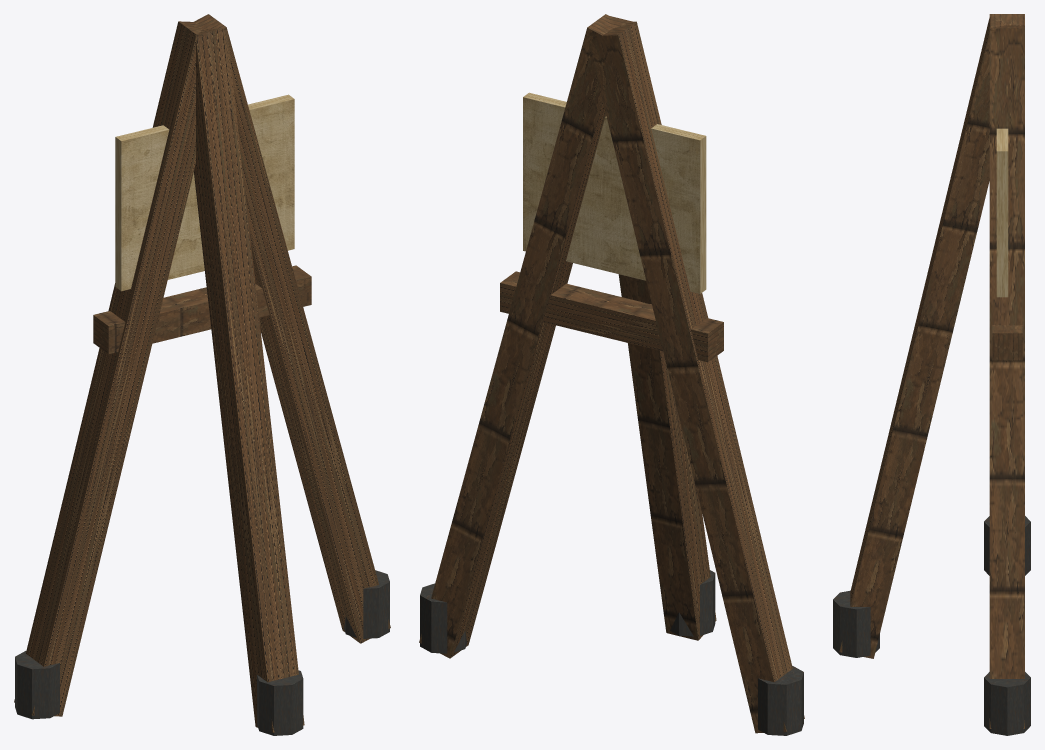
Rendered from PRP_SIGNAL_FRAME_001.obj.
3 renders of one model, left to right at view 1: azimuth 30°, elevation 25°; view 2: azimuth 150°, elevation 25°; view 3: azimuth 270°, elevation 25°, orthographic. The views are drawn at different scales.
Visible parts, largest first — view 1: RearBrace, LeftUpright, RightUpright, SignalPanel, GroundAnchor, ReachableCrossbar; view 2: LeftUpright, RightUpright, SignalPanel, RearBrace, ReachableCrossbar, GroundAnchor; view 3: RearBrace, RightUpright, GroundAnchor, SignalPanel, ReachableCrossbar, LeftUpright.
Part boxes in pixels (x1,y1,x2,y2): RearBrace: (193, 28, 304, 732); LeftUpright: (14, 21, 203, 716); RightUpright: (194, 14, 390, 643); SignalPanel: (115, 94, 294, 291); GroundAnchor: (15, 570, 389, 735); ReachableCrossbar: (93, 265, 311, 354); LeftUpright: (587, 21, 804, 733); RightUpright: (419, 14, 614, 658); SignalPanel: (523, 92, 706, 293); RearBrace: (608, 15, 716, 640); ReachableCrossbar: (500, 271, 723, 362); GroundAnchor: (420, 570, 803, 735); RearBrace: (839, 16, 1006, 658); RightUpright: (989, 25, 1024, 728); GroundAnchor: (833, 516, 1030, 735); SignalPanel: (996, 128, 1008, 297); ReachableCrossbar: (992, 325, 1022, 360); LeftUpright: (989, 14, 1024, 25).
Bounding box in the file's own units: 1.24 × 2.08 × 0.59.
3 materials, 3 textured.
